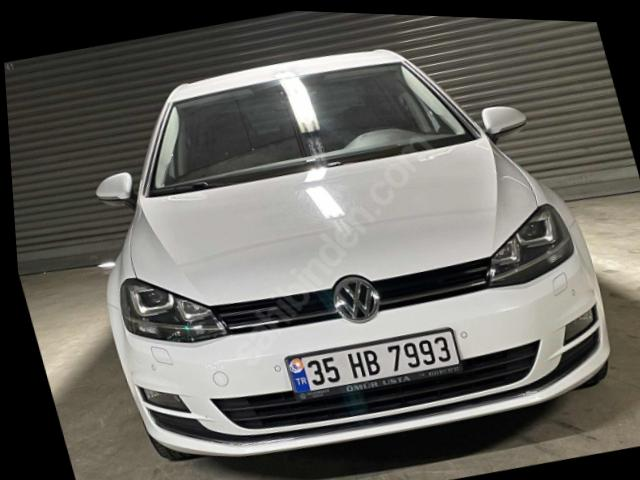plaka: (286, 329, 459, 397)
